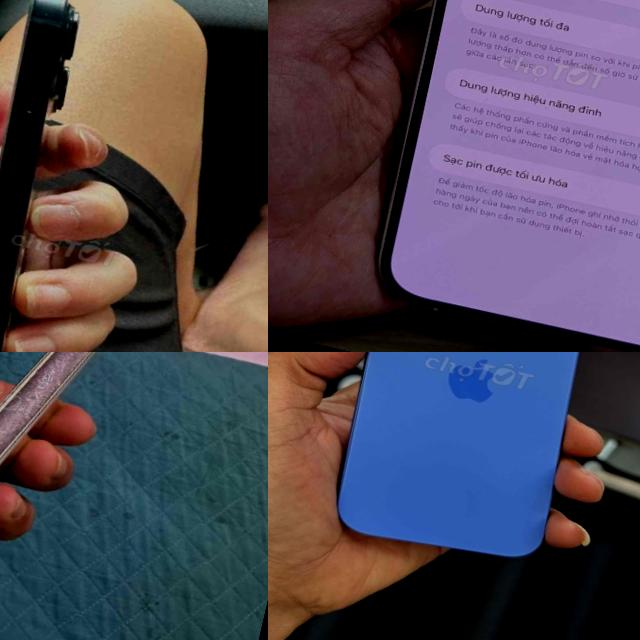scratch: (0, 358, 67, 434), (47, 352, 111, 375), (31, 1, 58, 25)
